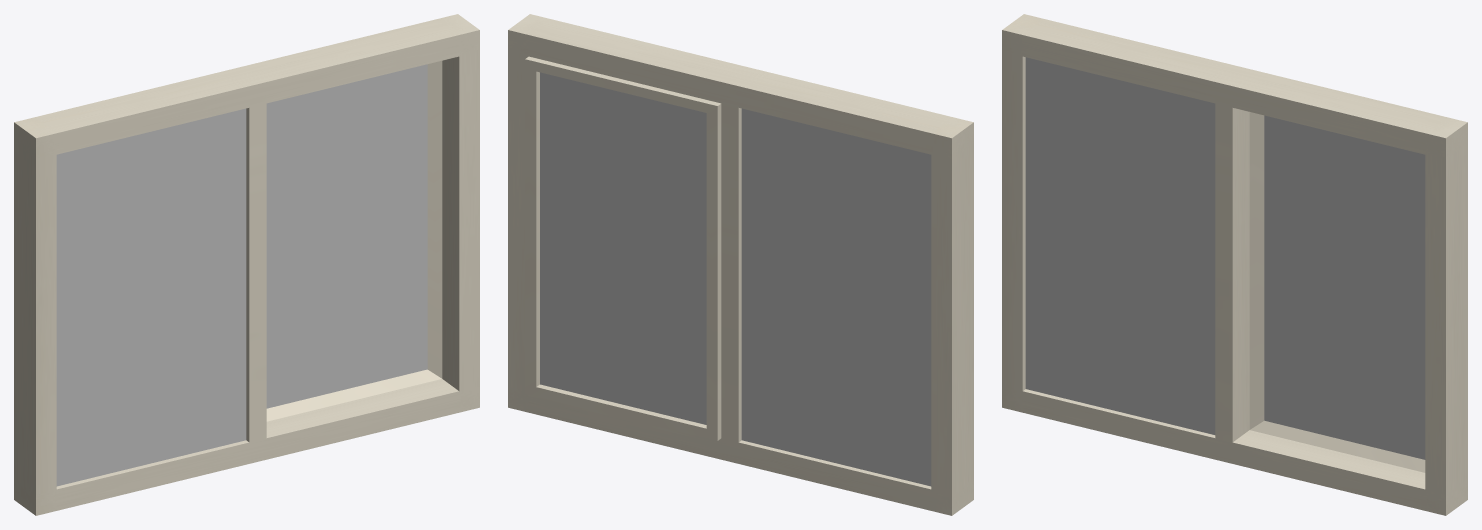
File: window.obj
3 views of the same model, side by side, from view 1: azimuth 30°, elevation 25°; view 2: azimuth 150°, elevation 25°; view 3: azimuth 330°, elevation 25° (orthographic).
Visible parts, largest first — view 1: Window_Cube.028; view 2: Window_Cube.028; view 3: Window_Cube.028.
Boxes of the visible parts, x1,y1,x2,y2 form: Window_Cube.028: (14, 14, 479, 515); Window_Cube.028: (508, 14, 973, 515); Window_Cube.028: (1002, 14, 1467, 515).
Bounding box in the file's own units: 1.22 × 0.9926 × 0.1217.
